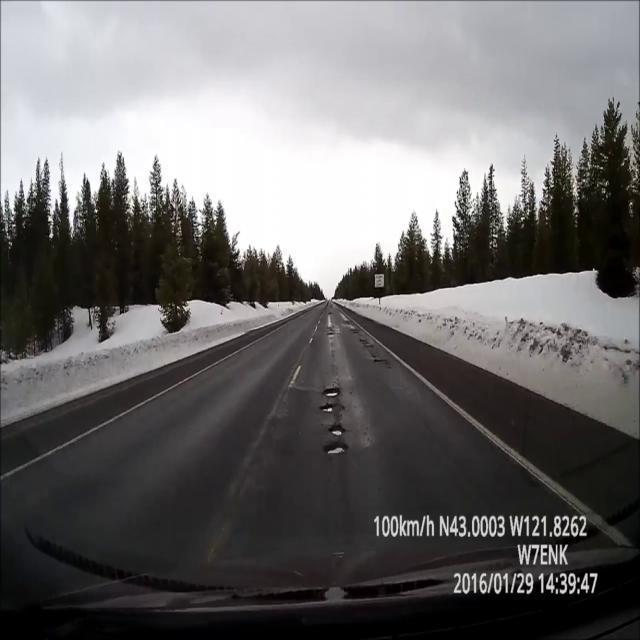pothole: (320, 401, 345, 414), (326, 442, 349, 456), (322, 387, 340, 398), (330, 424, 343, 437), (360, 339, 374, 349), (326, 328, 336, 336), (351, 328, 361, 335), (374, 359, 388, 363), (328, 313, 333, 315)
